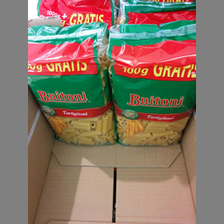pasta: (108, 22, 196, 146), (27, 24, 115, 146)
